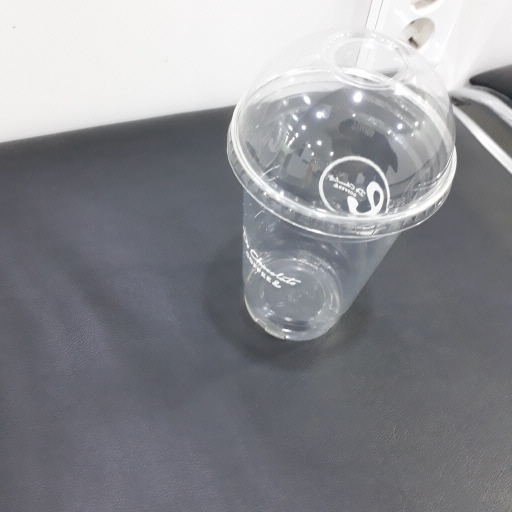Plastic_2: (222, 27, 455, 340)
